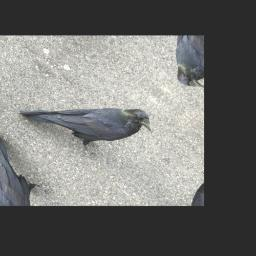Crow: (16, 61, 162, 177)
